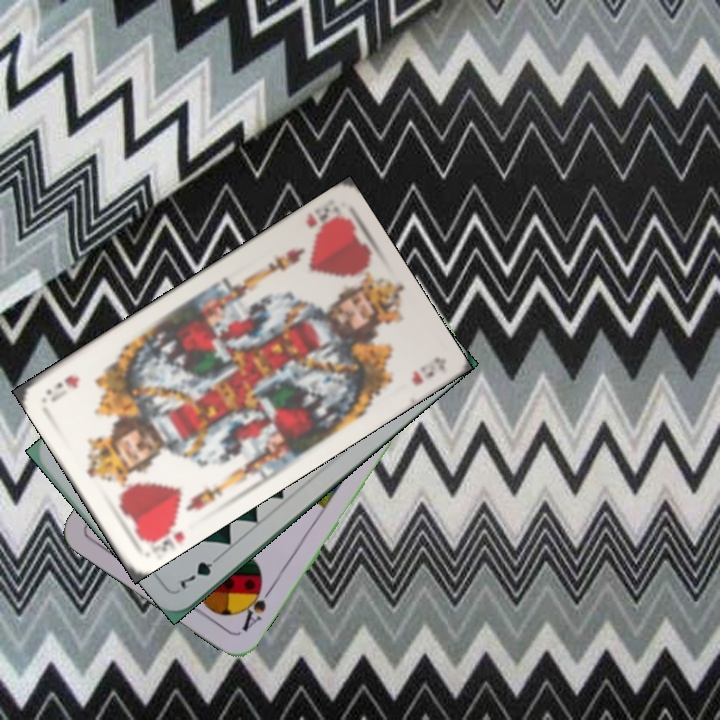G7: (173, 550, 224, 592)
HK: (138, 513, 187, 546), (302, 203, 345, 238)
SA: (237, 577, 276, 634)
